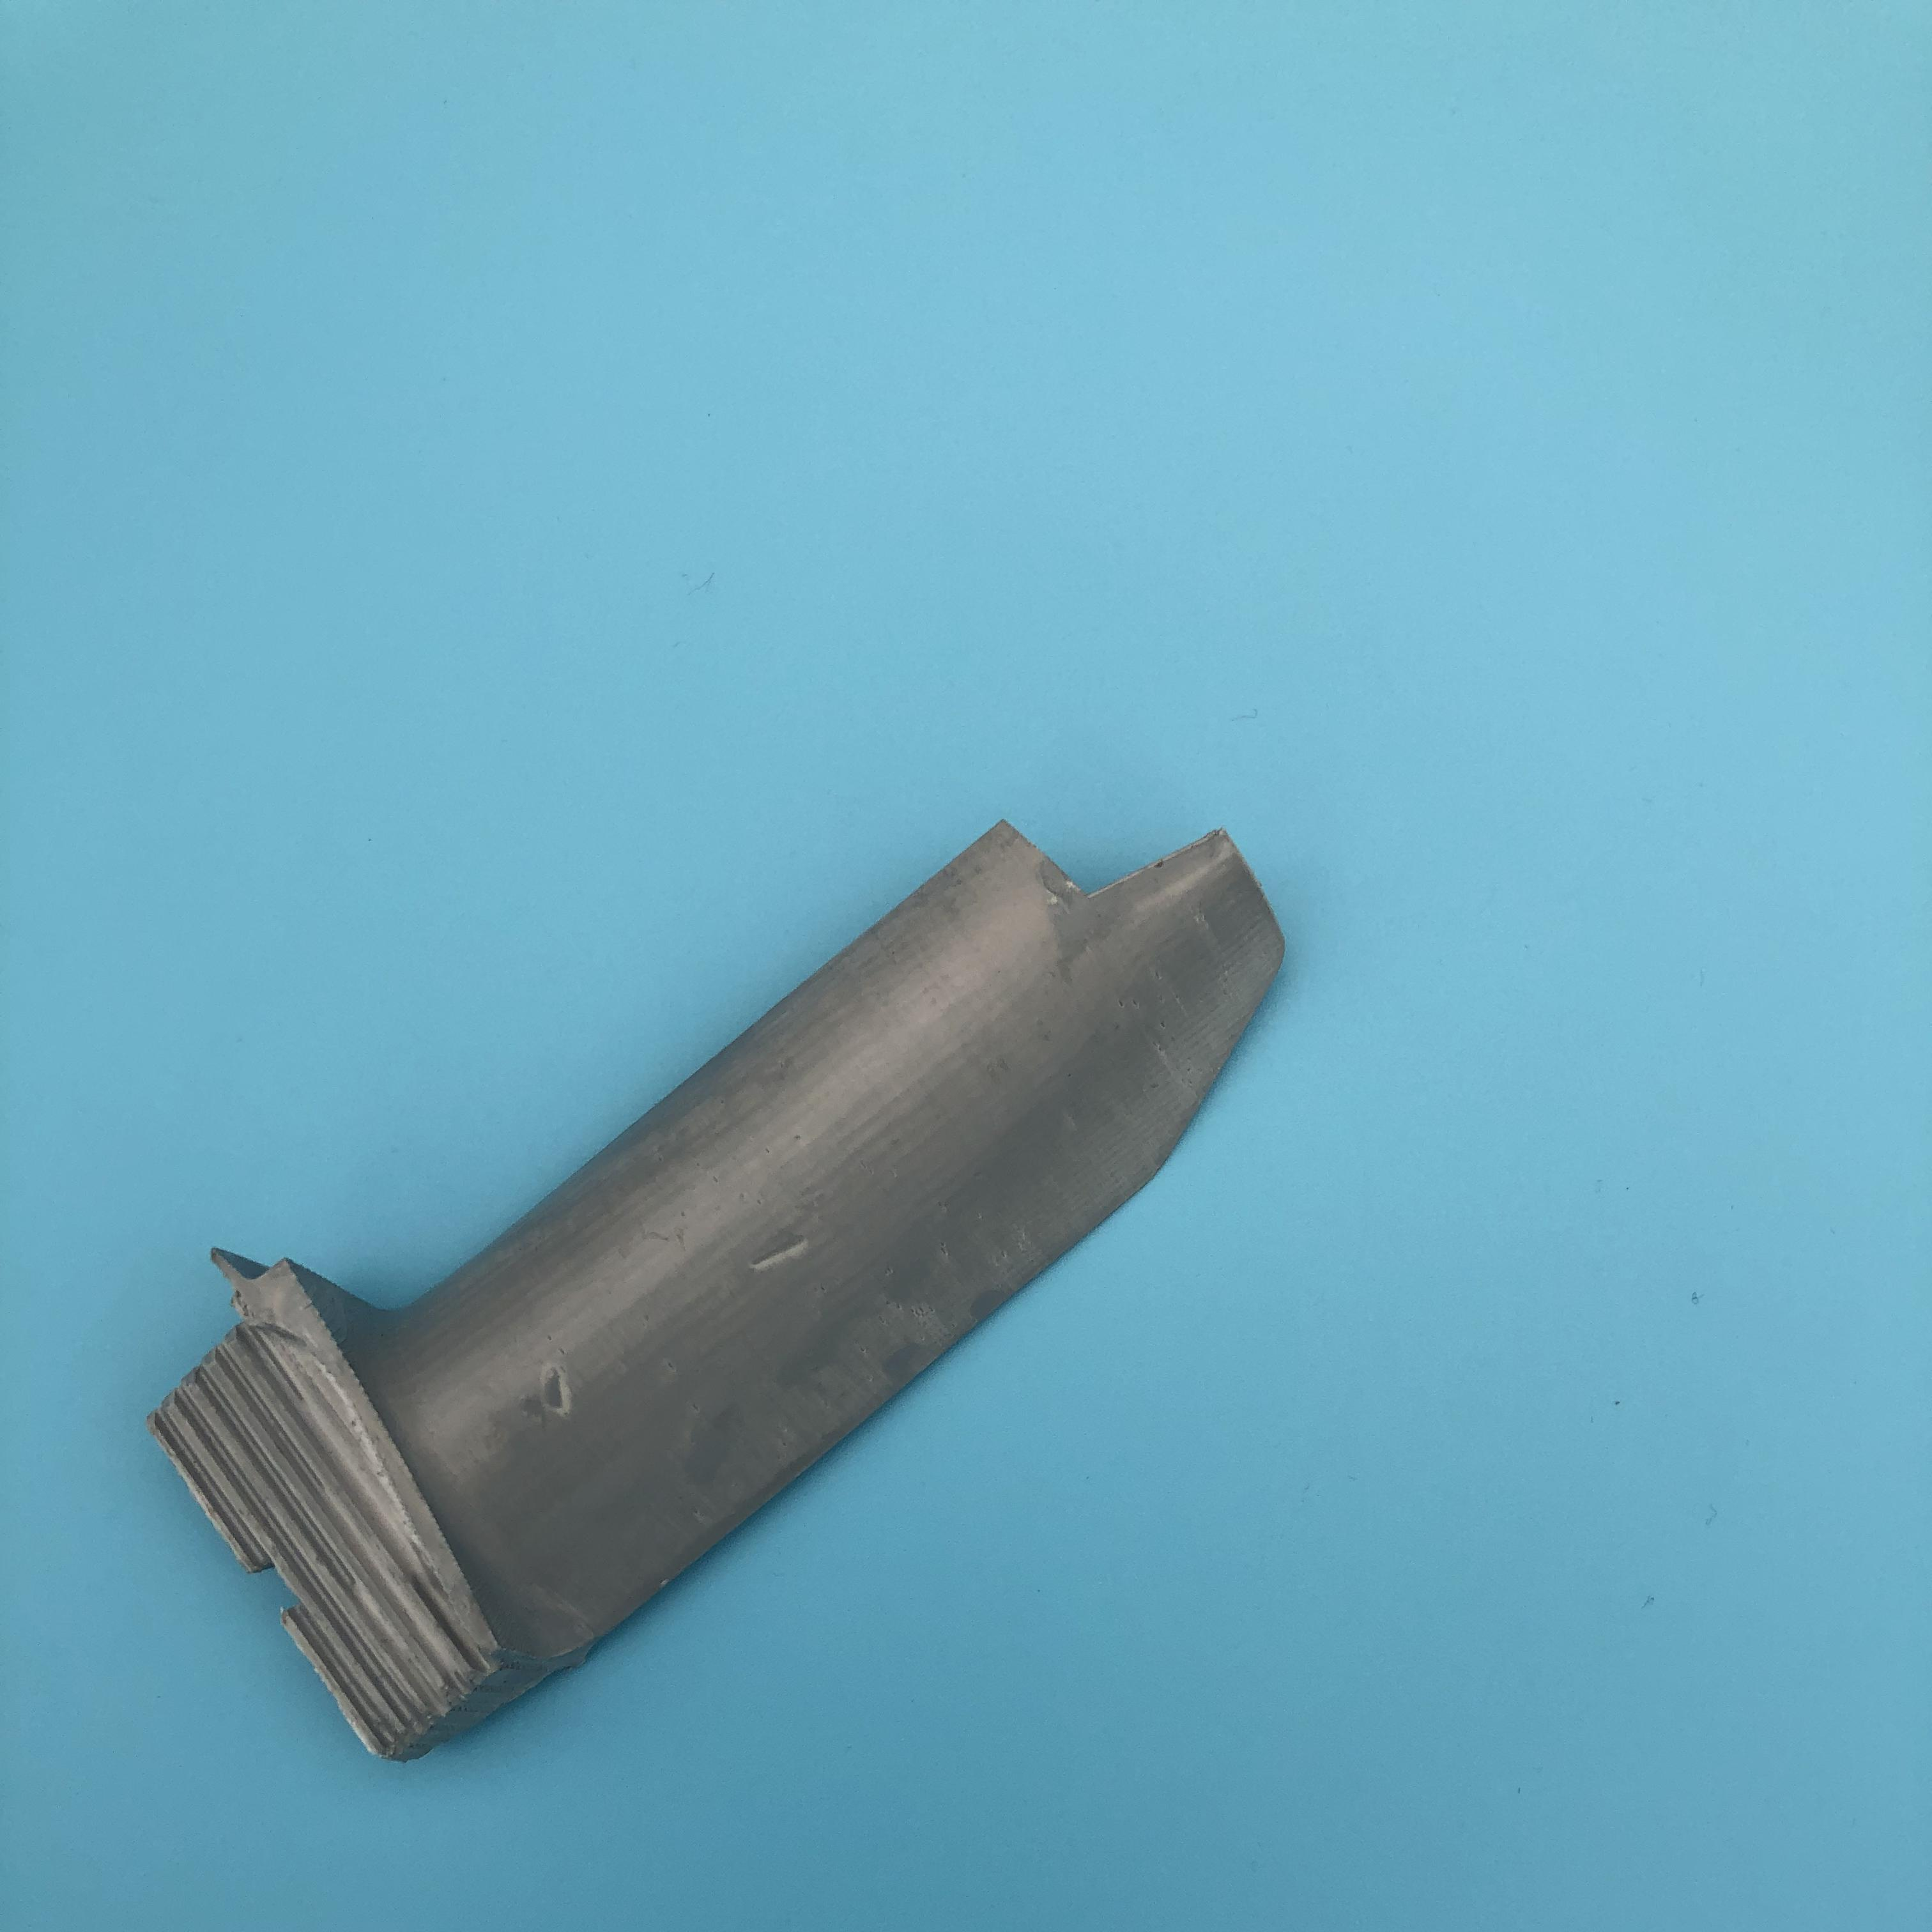fracture: (1014, 798, 1228, 904)
